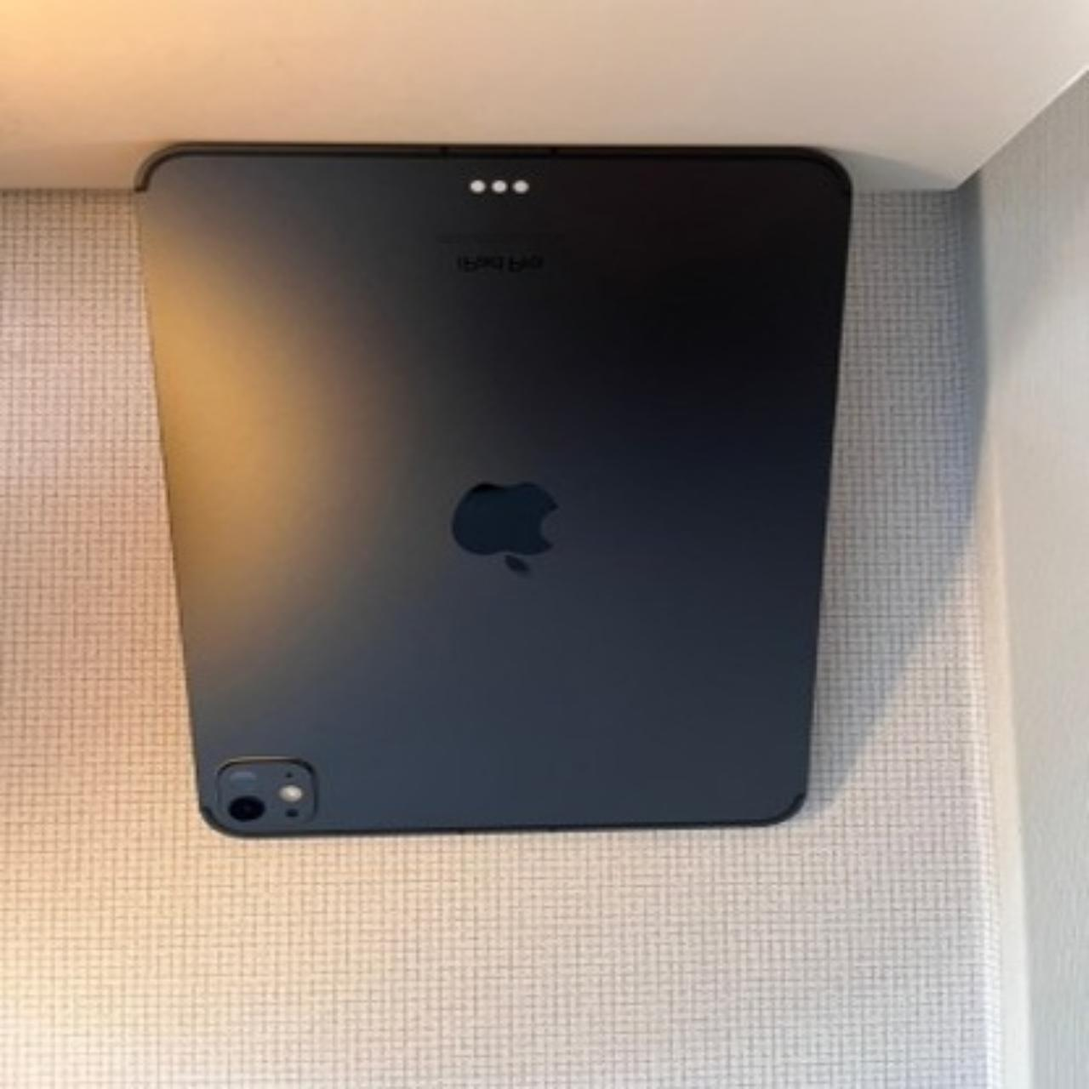Tablet_PC: (113, 142, 874, 850)
